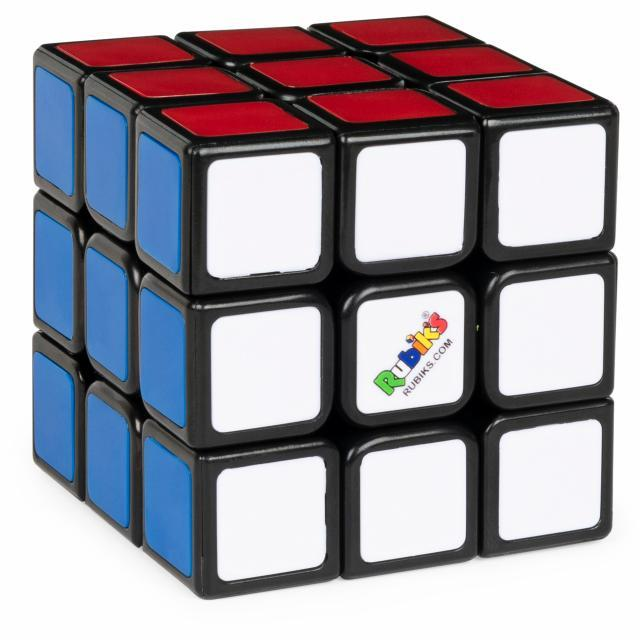Rub: (26, 9, 626, 600)
